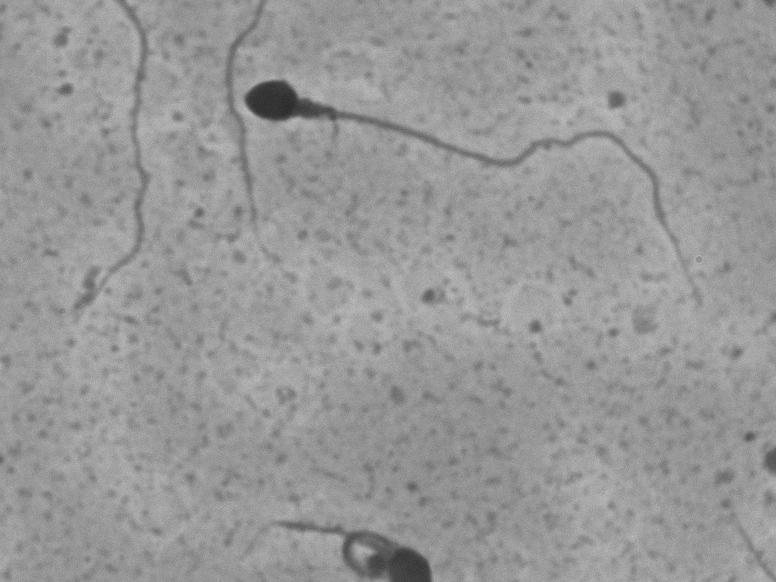Abnormal: (236, 61, 719, 328)
